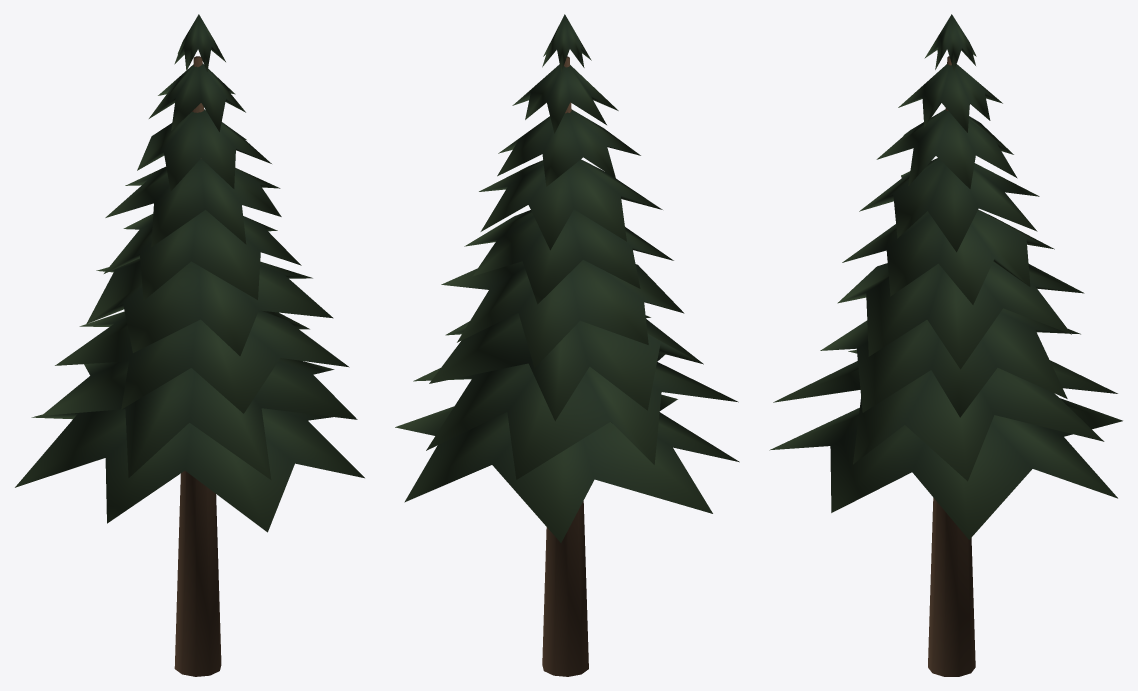
The model's file is tree.glb.
3 renders of one model, left to right at view 1: azimuth 30°, elevation 25°; view 2: azimuth 150°, elevation 25°; view 3: azimuth 270°, elevation 25°, orthographic.
Parts seen in each view (by area): view 1: Tree; view 2: Tree; view 3: Tree.
Part boxes in pixels (left/top/right/bottom): Tree: left=15, top=14, right=364, bottom=676; Tree: left=395, top=14, right=739, bottom=676; Tree: left=769, top=14, right=1122, bottom=676.
Size of the model in its own units: 5.08 by 9.65 by 4.74.
